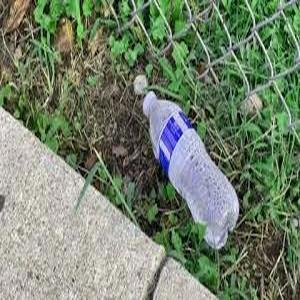Plastic: (141, 90, 243, 250)
